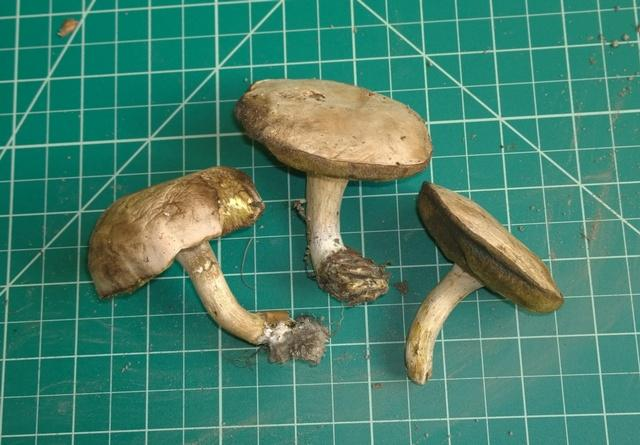Edible Mushroom: (86, 164, 333, 365), (233, 76, 433, 307), (403, 179, 564, 385)
